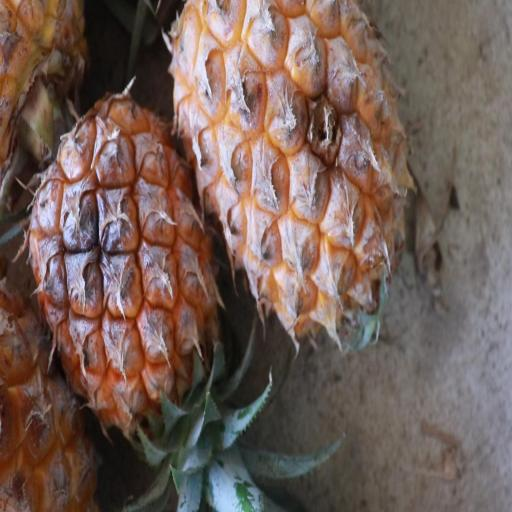Pineapple - v8 v1: (166, 0, 419, 365), (18, 81, 220, 486)
